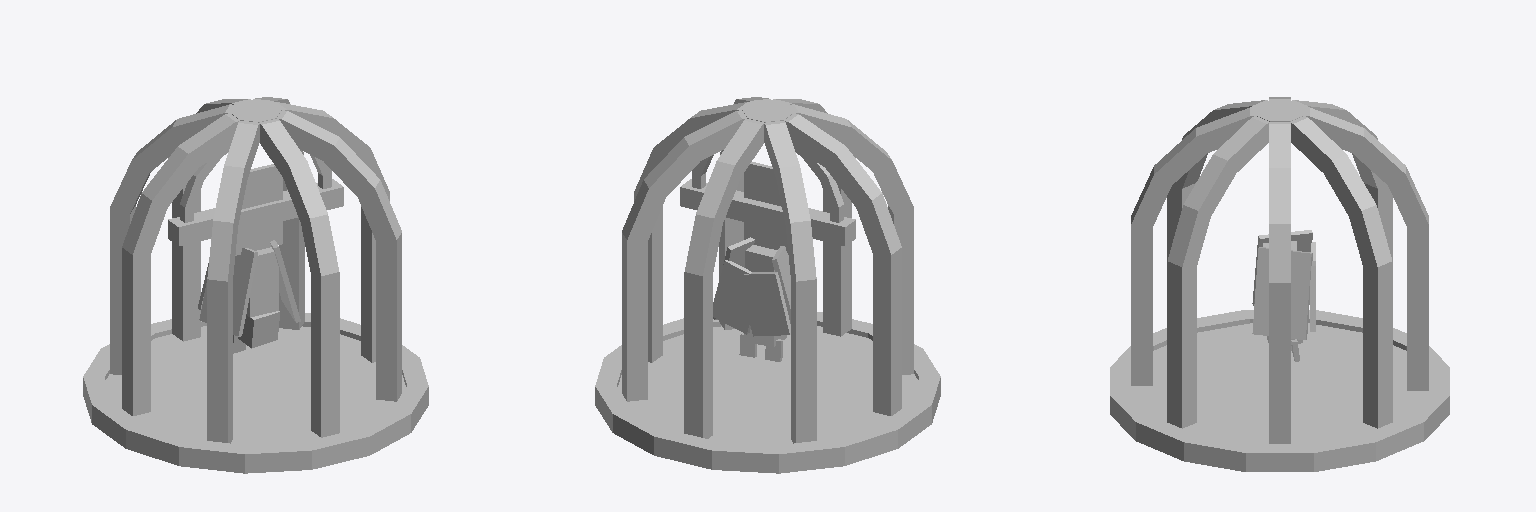
Rendered from bat_cage.obj.
The picture shows the model from 3 angles: view 1: azimuth 30°, elevation 25°; view 2: azimuth 150°, elevation 25°; view 3: azimuth 270°, elevation 25°; orthographic projection.
Visible parts, largest first — view 1: hexadecagon, Unbenannt_0, body, stock, Unbenannt_2, Unbenannt_1, leftWing, head, Unbenannt_3, octagon, Unbenannt_4, rightWing (+1 smaller); view 2: hexadecagon, Unbenannt_0, stock, body, leftWingTip, Unbenannt_1, Unbenannt_2, rightWingTip, Unbenannt_3, octagon, Unbenannt_4, Unbenannt_5 (+1 smaller); view 3: hexadecagon, Unbenannt_0, rightWing, Unbenannt_2, Unbenannt_1, Unbenannt_4, Unbenannt_3, Unbenannt_5, octagon, Unbenannt_6, leftWing.
Boxes of the visible parts, box(x1,y1,x2,y2) form: hexadecagon: box(83, 97, 428, 473); Unbenannt_0: box(151, 326, 370, 443); body: box(235, 164, 282, 317); stock: box(168, 179, 343, 246); Unbenannt_2: box(267, 328, 394, 420); Unbenannt_1: box(151, 359, 266, 444); leftWing: box(199, 248, 257, 336); head: box(238, 311, 279, 348); Unbenannt_3: box(108, 374, 206, 440); octagon: box(231, 101, 281, 122); Unbenannt_4: box(291, 326, 401, 404); rightWing: box(270, 240, 300, 322); hexadecagon: box(595, 97, 940, 473); Unbenannt_0: box(653, 326, 872, 443); stock: box(680, 179, 855, 246); body: box(744, 162, 787, 271); leftWingTip: box(738, 272, 790, 336); Unbenannt_1: box(757, 359, 872, 444); Unbenannt_2: box(629, 329, 742, 420); rightWingTip: box(713, 260, 751, 334); Unbenannt_3: box(817, 374, 915, 440); octagon: box(742, 101, 792, 122); Unbenannt_4: box(622, 326, 732, 404); Unbenannt_5: box(832, 377, 917, 438); hexadecagon: box(1110, 97, 1449, 471); Unbenannt_0: box(1131, 361, 1428, 410); rightWing: box(1252, 247, 1312, 339); Unbenannt_2: box(1149, 411, 1410, 426); Unbenannt_1: box(1153, 345, 1406, 360); Unbenannt_4: box(1181, 427, 1378, 435); Unbenannt_3: box(1197, 337, 1362, 344); Unbenannt_5: box(1197, 328, 1362, 336); octagon: box(1256, 101, 1303, 121); Unbenannt_6: box(1207, 436, 1352, 443); leftWing: box(1252, 230, 1312, 305).
Size of the model in its own units: 1 by 0.9391 by 1.